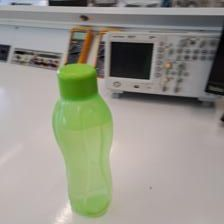bottle: (49, 60, 116, 216)
